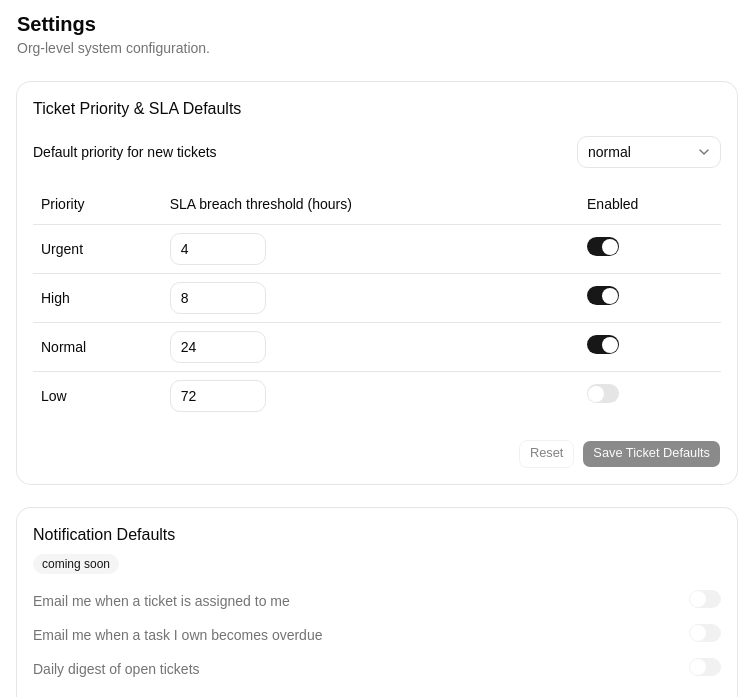
SettingsPage › reverts to server values on Reset
Expected: the text "Default priority for new tickets" is shown, [33, 142, 217, 162]
Replace the text in the number field next to "urgent" with "99" at point(218, 248), box [170, 232, 266, 264]
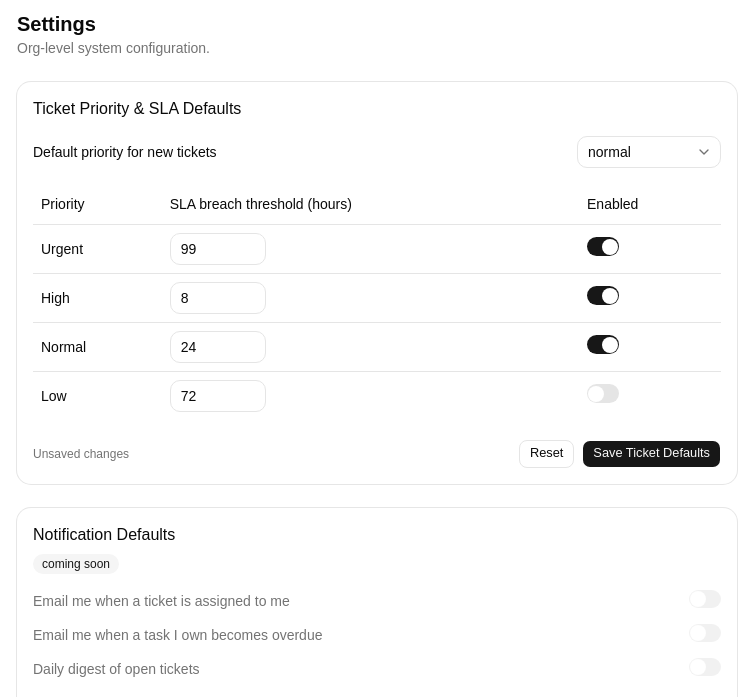
Now the text "Unsaved changes" is shown, box [33, 446, 129, 462]
Click the button "Reset" at point(547, 454), box [519, 440, 574, 468]
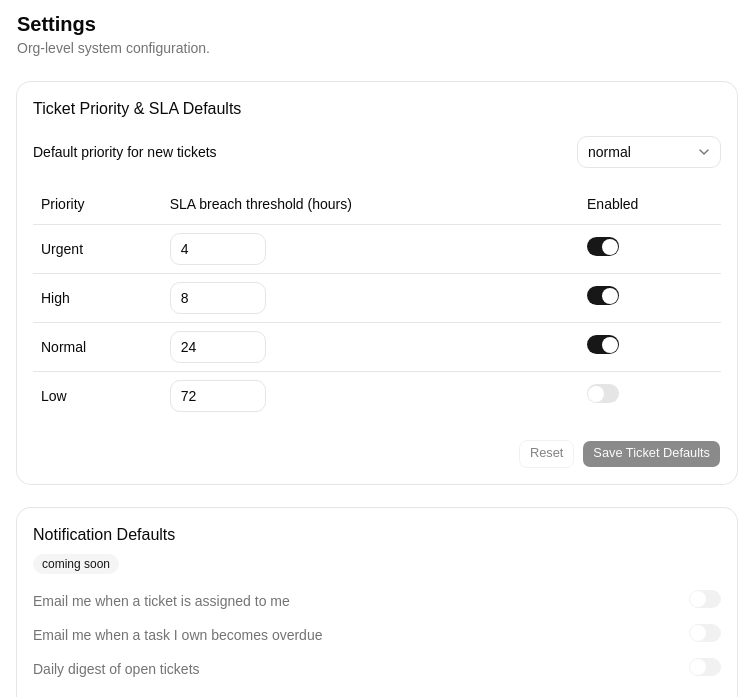
Now the text "Unsaved changes" is gone
Now the number field next to "urgent" holds "4", box [170, 232, 266, 264]
